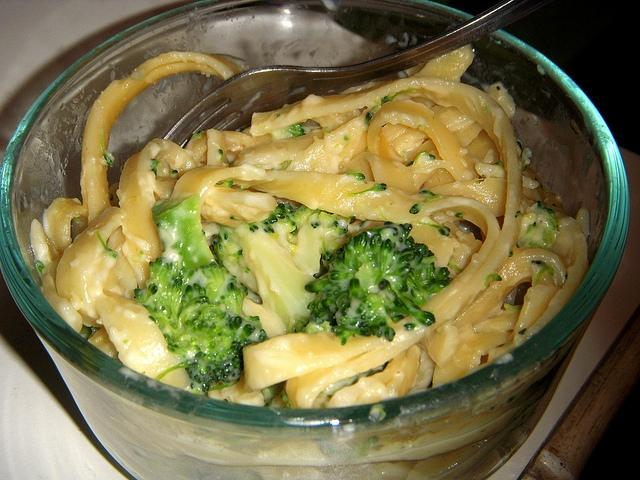broccoli: (134, 194, 268, 393), (304, 222, 450, 346), (235, 224, 318, 335), (265, 207, 350, 274), (517, 200, 560, 250), (248, 203, 306, 233), (262, 380, 286, 408), (96, 230, 118, 258), (381, 90, 415, 104), (78, 324, 102, 341), (284, 123, 306, 137), (271, 160, 292, 170), (36, 260, 46, 274)
